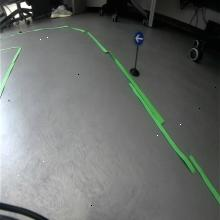left: (133, 29, 144, 47)
